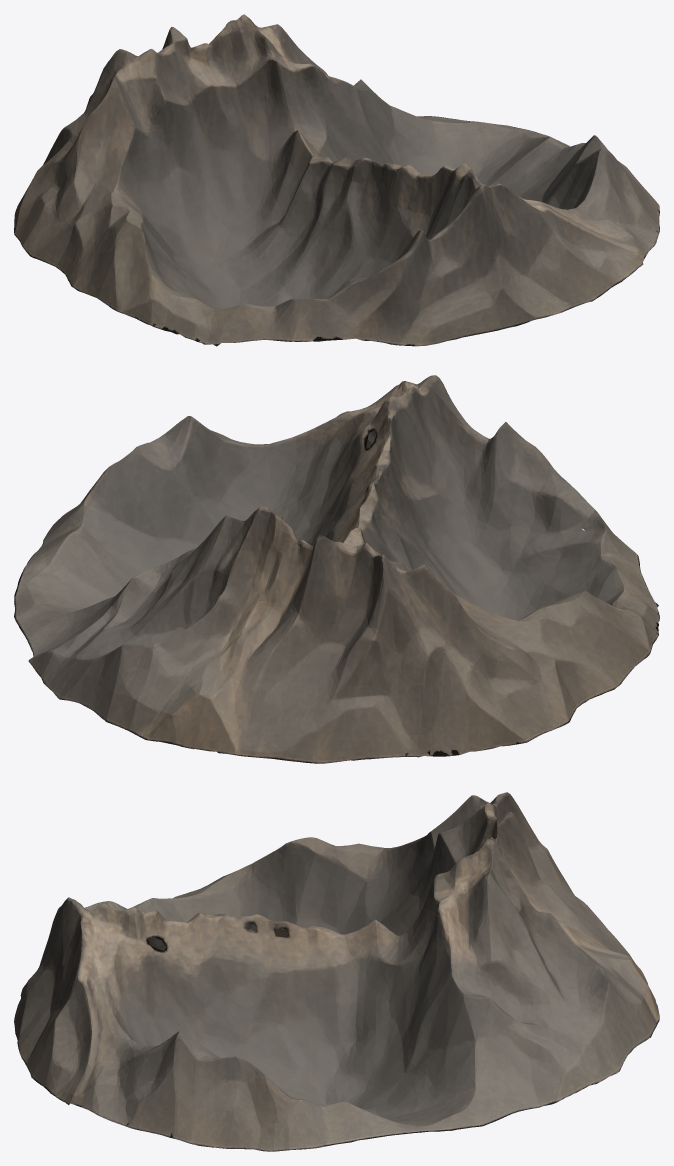
3 renders of one model, top to bottom at view 1: azimuth 30°, elevation 25°; view 2: azimuth 150°, elevation 25°; view 3: azimuth 270°, elevation 25°, orthographic. The views are drawn at different scales.
Parts seen in each view (by area): view 1: world; view 2: world; view 3: world.
Boxes of the visible parts, <box> form: world: <box>14,14,659,346</box>; world: <box>14,375,659,763</box>; world: <box>14,792,659,1151</box>.
Bounding box in the file's own units: 0.9998 × 0.3612 × 0.9996.
Materials: 1 (1 with a texture image).
